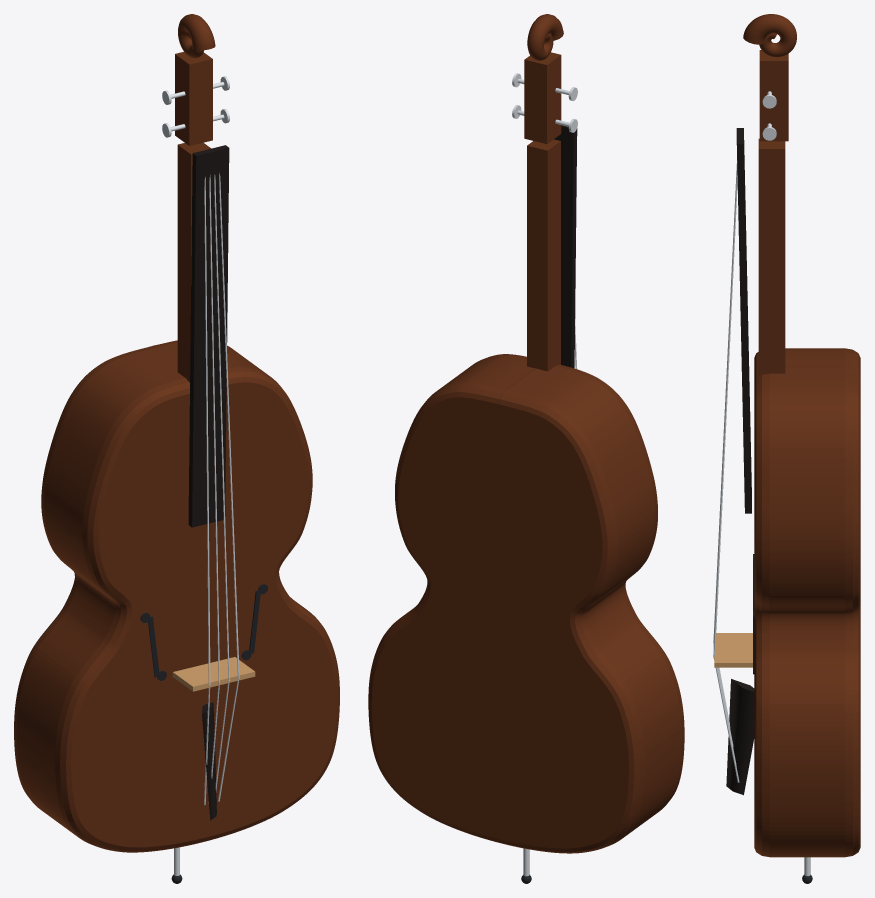
Rendered from contrebasse.glb.
3 renders of one model, left to right at view 1: azimuth 30°, elevation 25°; view 2: azimuth 150°, elevation 25°; view 3: azimuth 270°, elevation 25°, orthographic. The views are drawn at different scales.
Bounding box in the file's own units: 0.7247 × 2.16 × 0.332.
